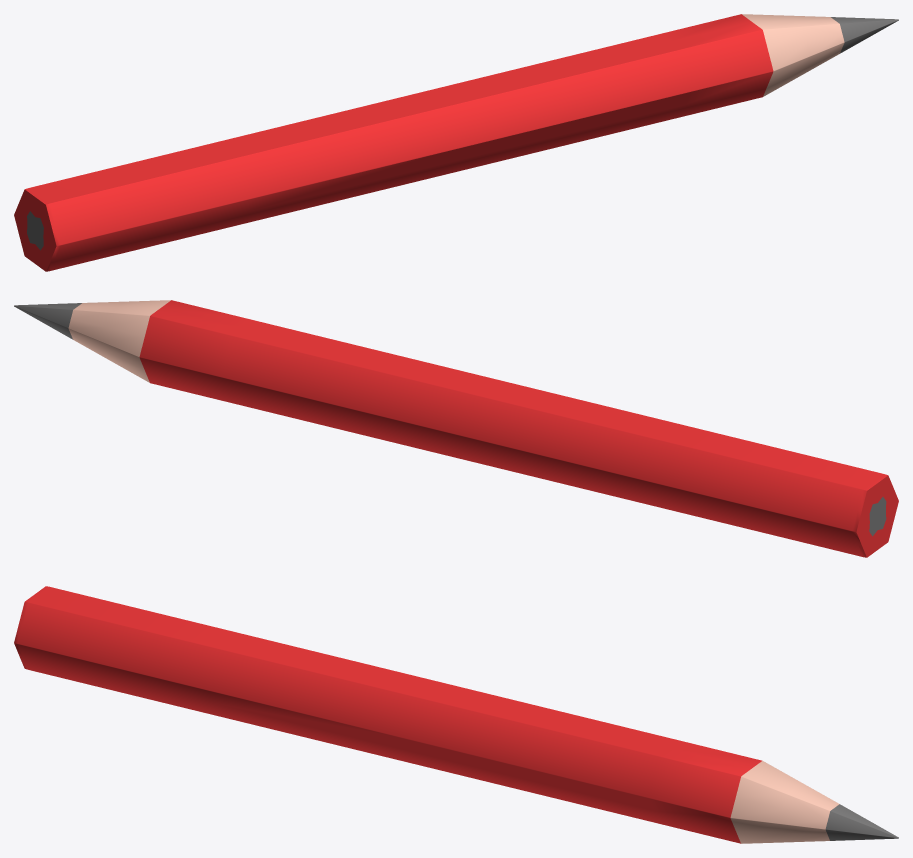
File: JuniorFactory_SlicerClone_Pencil_v1.fbx
3 renders of one model, top to bottom at view 1: azimuth 30°, elevation 25°; view 2: azimuth 150°, elevation 25°; view 3: azimuth 330°, elevation 25°, orthographic.
Visible parts, largest first — view 1: Pencil; view 2: Pencil; view 3: Pencil.
Boxes of the visible parts, x1=… form: Pencil: x1=14, y1=14, x2=898, y2=271; Pencil: x1=14, y1=300, x2=898, y2=557; Pencil: x1=14, y1=586, x2=898, y2=843.
Bounding box in the file's own units: 714 × 53.48 × 61.44.
